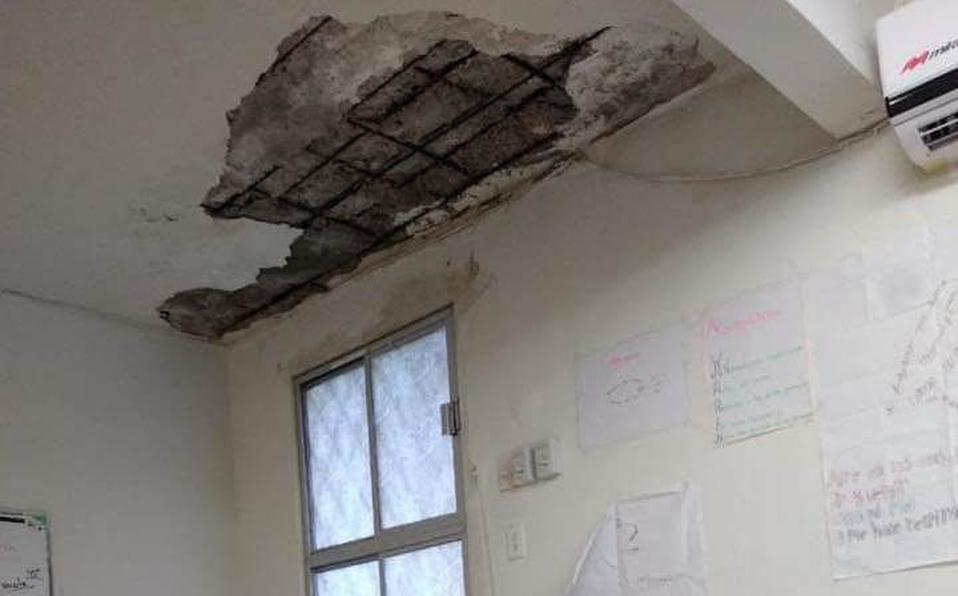exposed_rebar: (342, 26, 609, 176), (217, 202, 442, 335), (276, 131, 442, 235), (345, 37, 445, 115), (448, 132, 554, 200), (254, 16, 335, 85), (199, 164, 281, 219)
spalling: (155, 10, 715, 340)
